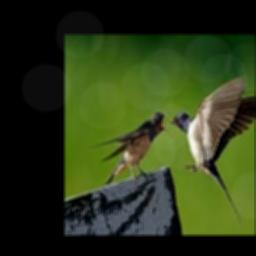Swallow: (170, 75, 255, 225), (91, 111, 167, 185)
